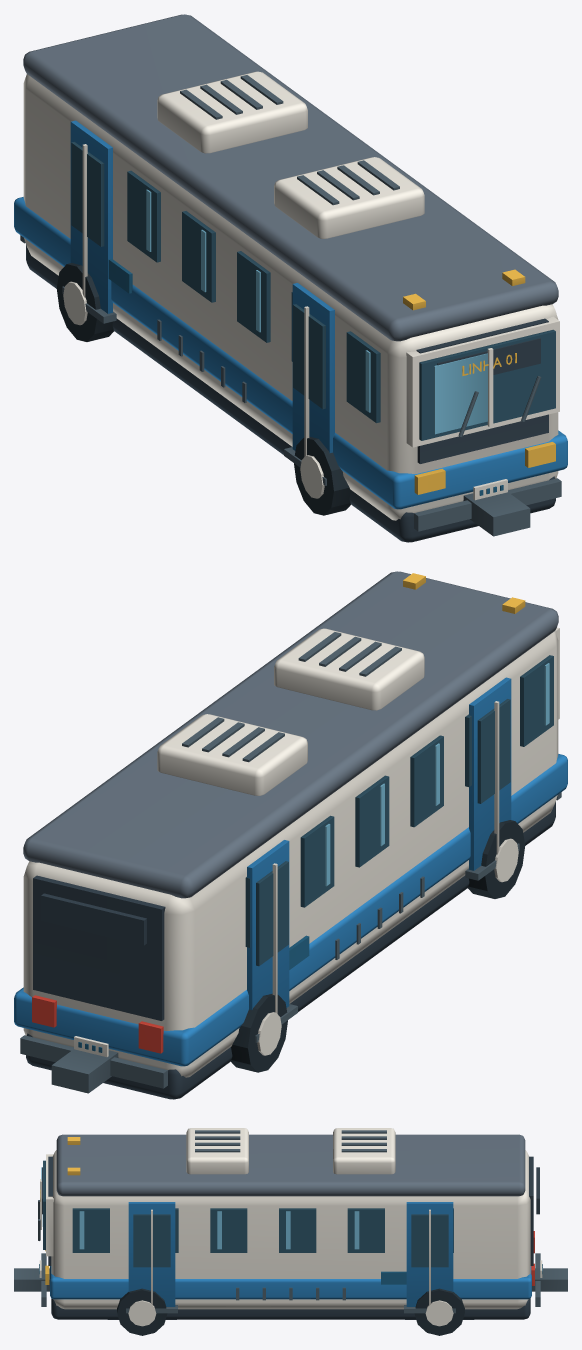
The model's file is train-carriage.glb.
3 views of the same model, one above another, from view 1: azimuth 30°, elevation 25°; view 2: azimuth 150°, elevation 25°; view 3: azimuth 270°, elevation 25° (orthographic). The views are drawn at different scales.
Parts seen in each view (by area): view 1: passenger body, roof, lower stripe, side windows, chassis, door step, window reflection, wheel, headlamp, plate characters; view 2: passenger body, roof, lower stripe, chassis, side windows, door step, wheel, rear lamps, window reflection; view 3: passenger body, roof, lower stripe, side windows, chassis, door step, wheel, window reflection, plate characters, headlamp.
Boxes of the visible parts, bbox=[...] form: passenger body: bbox=[23, 71, 559, 520]; roof: bbox=[23, 14, 558, 341]; lower stripe: bbox=[14, 120, 567, 509]; side windows: bbox=[71, 142, 555, 440]; chassis: bbox=[26, 244, 555, 542]; door step: bbox=[20, 75, 561, 536]; window reflection: bbox=[146, 189, 487, 434]; wheel: bbox=[56, 263, 350, 515]; headlamp: bbox=[403, 269, 555, 494]; plate characters: bbox=[108, 258, 503, 495]; passenger body: bbox=[23, 627, 559, 1077]; roof: bbox=[23, 571, 558, 898]; lower stripe: bbox=[14, 677, 567, 1066]; chassis: bbox=[26, 801, 555, 1099]; side windows: bbox=[245, 655, 553, 966]; door step: bbox=[20, 632, 561, 1093]; wheel: bbox=[231, 820, 525, 1072]; rear lamps: bbox=[32, 995, 163, 1053]; window reflection: bbox=[325, 663, 549, 886]; passenger body: bbox=[39, 1128, 542, 1326]; roof: bbox=[56, 1134, 525, 1196]; lower stripe: bbox=[50, 1202, 531, 1306]; side windows: bbox=[43, 1160, 453, 1267]; chassis: bbox=[42, 1156, 539, 1319]; door step: bbox=[14, 1130, 567, 1319]; wheel: bbox=[117, 1288, 464, 1335]; window reflection: bbox=[41, 1167, 359, 1249]; plate characters: bbox=[39, 1264, 542, 1284]; headlamp: bbox=[40, 1137, 80, 1284].
Size of the model in its own units: 1.07 by 1.37 by 4.16.
